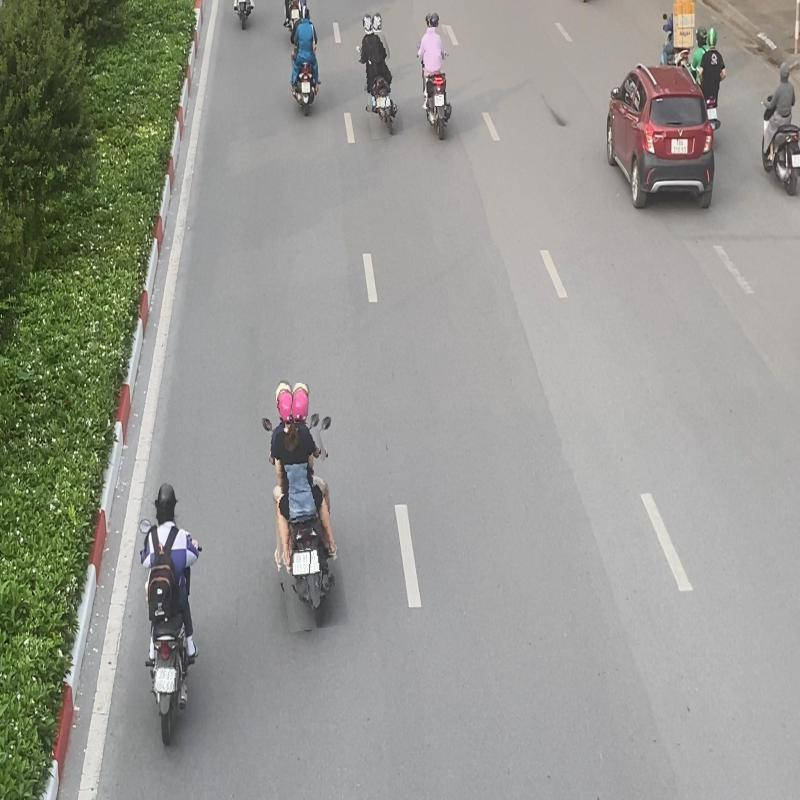helmet: (156, 480, 178, 519), (291, 384, 311, 424), (372, 10, 382, 32), (430, 12, 440, 28)
licenseplate: (154, 666, 176, 694), (292, 550, 312, 576), (376, 96, 386, 110), (434, 95, 442, 106)
motorcyclist: (263, 375, 341, 631), (138, 480, 203, 746), (356, 10, 400, 139), (416, 12, 452, 144)
